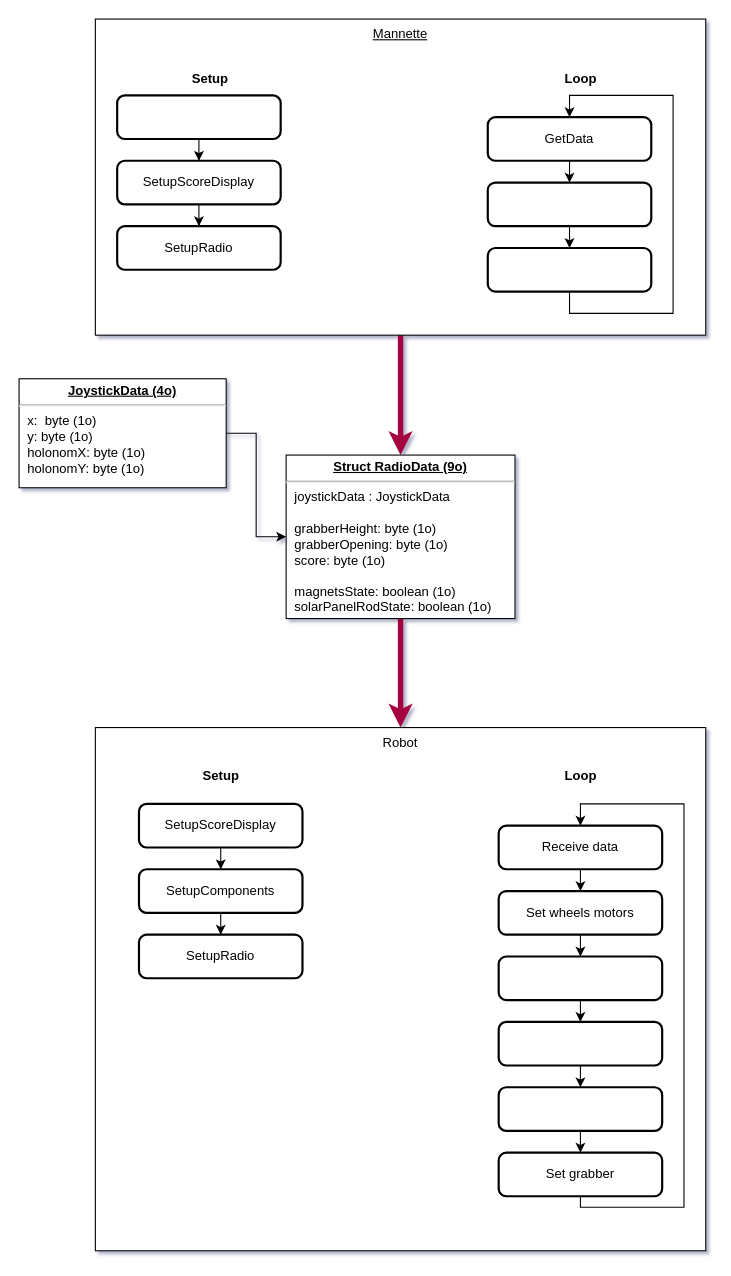
Some shapes in this 731 by 1276 pixel diagram are drawn without their labels. The centre of each missing label's shape, as x and y in pixels:
DisplayScore: [569,204]
SendData: [569,269]
Set magnets: [580,1043]
Set score: [580,978]
Set solar panel rods: [580,1108]
SetupInputs: [198,117]
